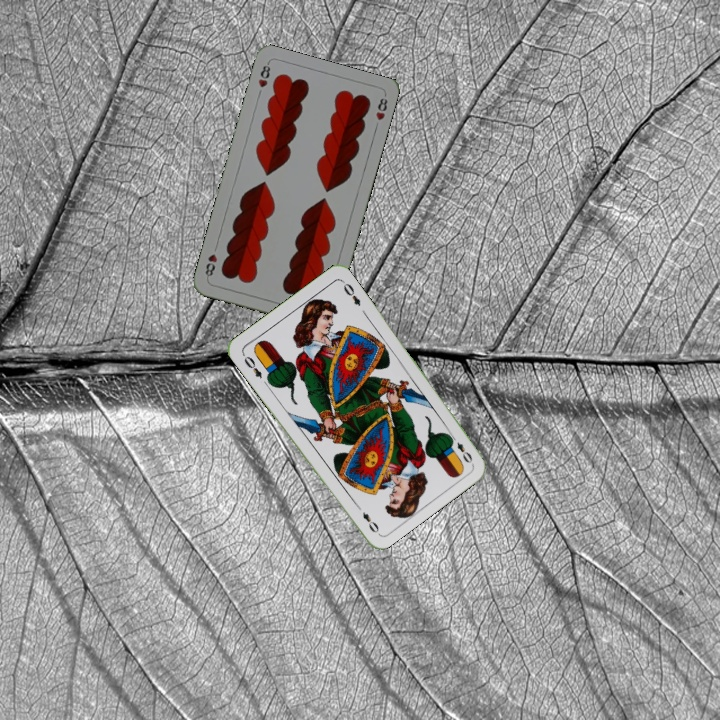EO: (446, 430, 475, 466), (238, 350, 265, 381)
H8: (254, 59, 273, 90)
